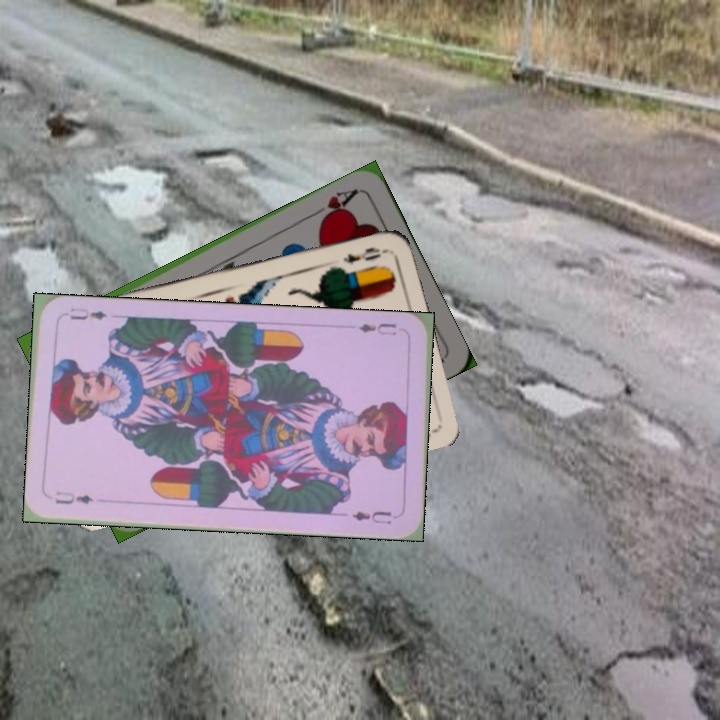EO: (339, 243, 391, 266)
EU: (51, 487, 96, 507), (355, 319, 399, 338)
HA: (308, 184, 362, 225)
